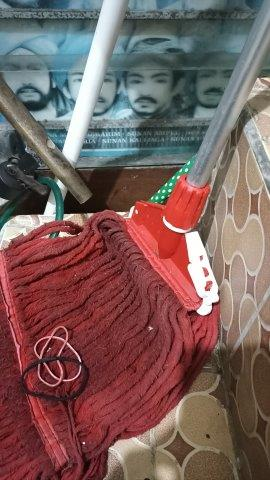karet: (20, 325, 89, 401)
